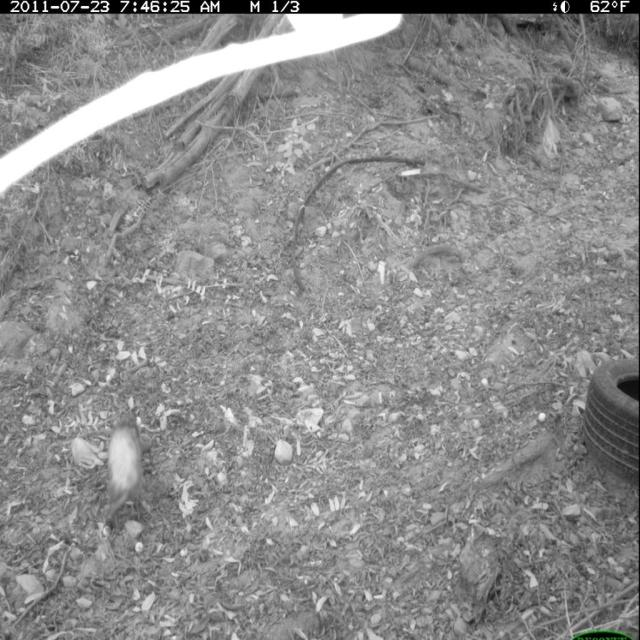opossum: (99, 406, 148, 537)
